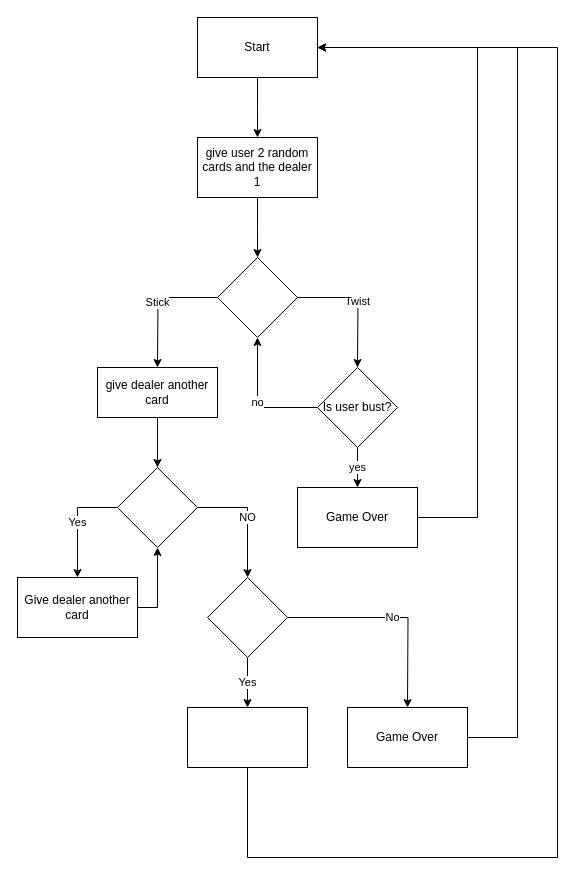
The diagram is 583 pixels wide and 883 high, and some of its shapes have lost their labels. Here are the shapes that lost their labels. From the top down, the centre of each, then its label:
At point 257,297: "Ask user to stick or twist".
At point 157,507: "Is dealer below 17".
At point 247,617: "is user > dealer".
At point 247,737: "Winner".
